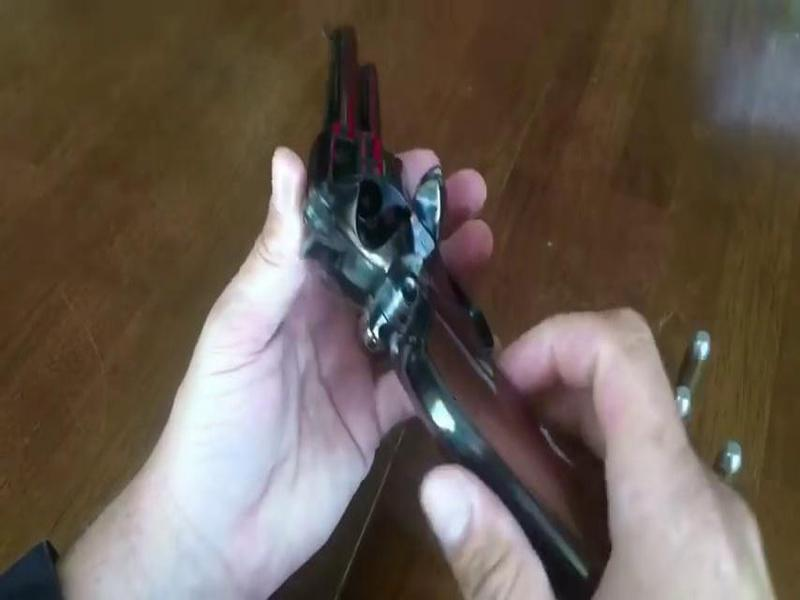Revolver: (296, 20, 542, 493)
